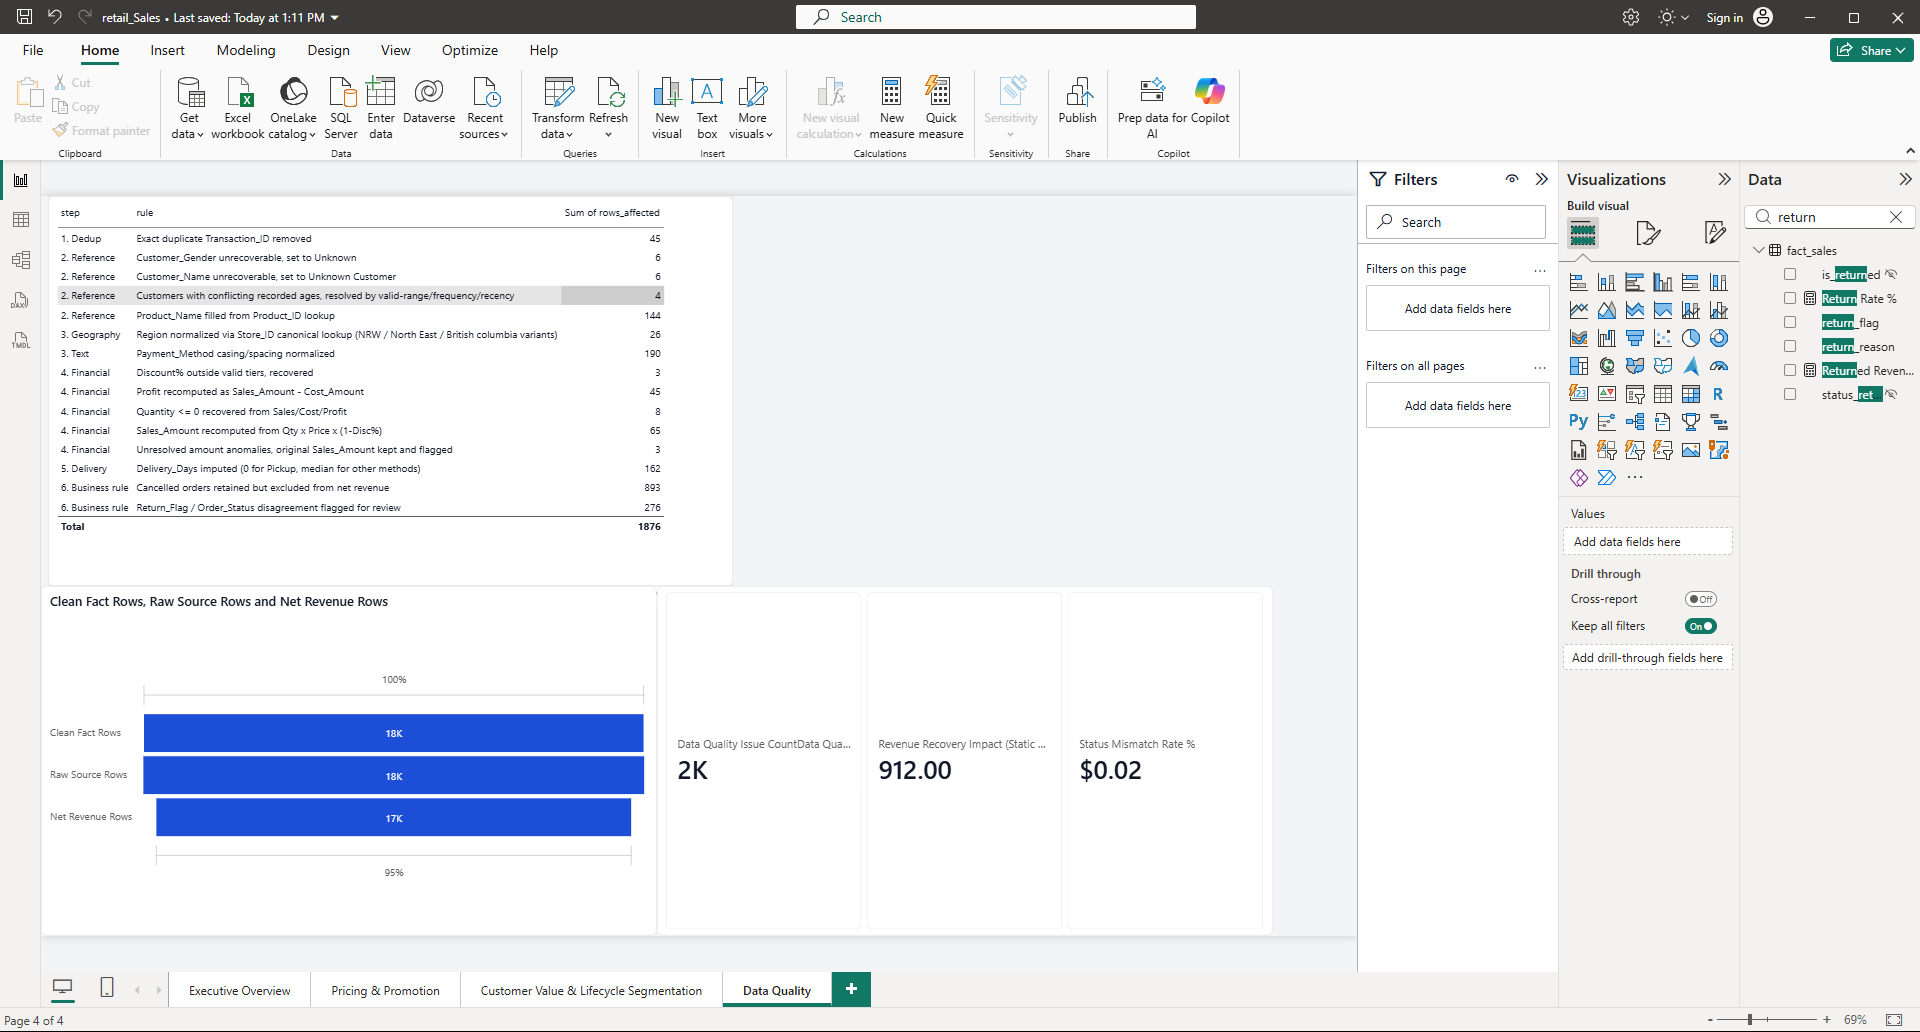

Layout of this report page (visuals, bound fields, positions):
{"tool":"powerbi","page":{"name":"Data Quality","canvas":[1920,1080],"ordinal":3},"visuals":[{"type":"tableEx","fields":{"Values":["retail data_quality_log.step","retail data_quality_log.rule","Sum(retail data_quality_log.rows_affected)"]},"box":[927.9,367.7,992.1,712],"z":0},{"type":"funnel","fields":{"Y":["retail fact_sales.Clean Fact Rows","retail fact_sales.Raw Source Rows","retail fact_sales.Net Revenue Rows"]},"box":[0,176.5,927.9,484.4],"z":1000},{"type":"cardVisual","fields":{"Data":["retail data_quality_log.Data Quality Issue CountData Quality Issue Count","retail data_quality_log.Revenue Recovery Impact (Static Audit Metric)Revenue Recovery Impact","retail data_quality_log.Status Mismatch Rate %"]},"box":[0,660.9,927.9,418.7],"z":2000},{"type":"pageNavigator","box":[0,0,1920,80.2],"z":2001}]}

Visuals, with their boxes on the page's 1920x1080 design canvas (x1, y1, x2, y2). These are canvas units, not pixel positions in the 1920x1032 screenshot, which may show the page scaled, cropped or inside an application window:
tableEx - retail data_quality_log.step x retail data_quality_log.rule: x1=928, y1=368, x2=1920, y2=1080
funnel - retail fact_sales.Clean Fact Rows x retail fact_sales.Raw Source Rows: x1=0, y1=176, x2=928, y2=661
cardVisual - retail data_quality_log.Data Quality Issue CountData Quality Issue Count x retail data_quality_log.Revenue Recovery Impact (Static Audit Metric)Revenue Recovery Impact: x1=0, y1=661, x2=928, y2=1080
pageNavigator: x1=0, y1=0, x2=1920, y2=80
